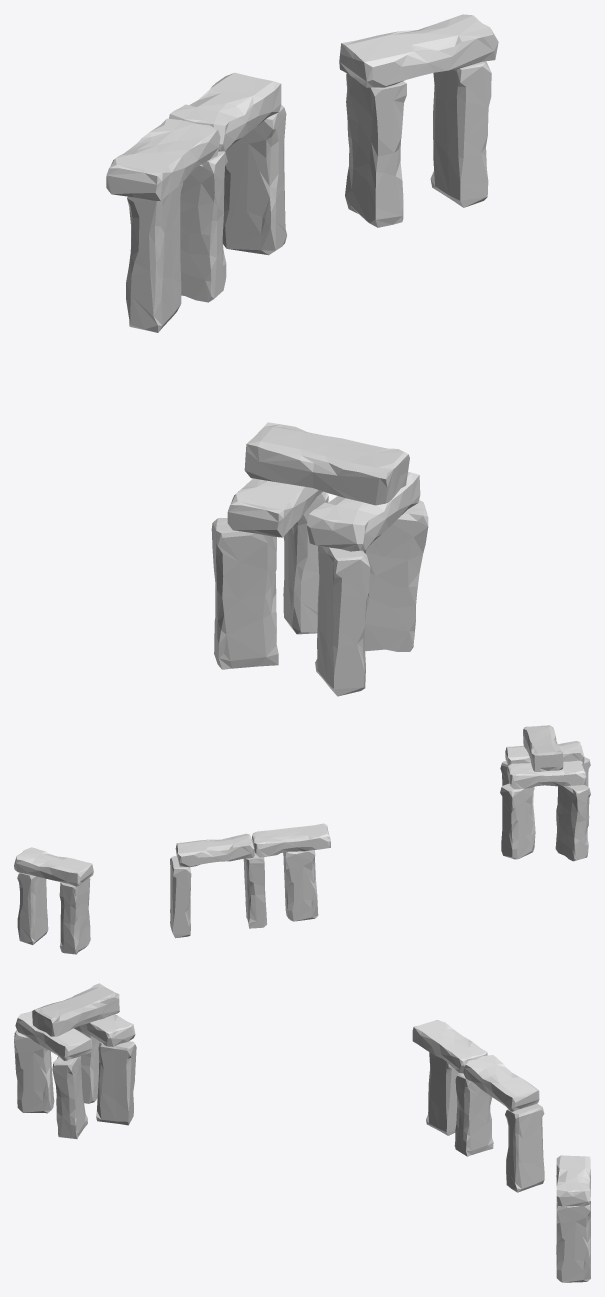
The model's file is PrisonTargets.fbx.
The picture shows the model from 3 angles, top to bottom: view 1: azimuth 30°, elevation 25°; view 2: azimuth 150°, elevation 25°; view 3: azimuth 270°, elevation 25°; orthographic projection. The views are drawn at different scales.
Visible parts, largest first — view 1: Target.014, Target.013, Target.001, Target.005, Target.000, Target.002, Target.009, Target.011, Target.006, Target.007, Target.004, Target.003 (+3 smaller); view 2: Target.013, Target.010, Target.006, Target.001, Target.007, Target.002, Target.000, Target.003, Target.008, Target.005, Target.014, Target.004 (+1 smaller); view 3: Target.005, Target.010, Target.014, Target.000, Target.009, Target.004, Target.003, Target.011, Target.006, Target.007, Target.002, Target.012 (+2 smaller).
Part boxes in pixels (left/top/right/bottom): Target.014: left=244, top=422, right=409, bottom=505; Target.013: left=211, top=518, right=278, bottom=669; Target.001: left=345, top=73, right=406, bottom=227; Target.005: left=222, top=104, right=286, bottom=255; Target.000: left=430, top=61, right=491, bottom=207; Target.002: left=339, top=14, right=498, bottom=87; Target.009: left=315, top=546, right=370, bottom=696; Target.011: left=363, top=500, right=428, bottom=651; Target.006: left=126, top=182, right=183, bottom=332; Target.007: left=106, top=118, right=220, bottom=200; Target.004: left=180, top=151, right=227, bottom=302; Target.003: left=169, top=72, right=281, bottom=151; Target.013: left=555, top=785, right=590, bottom=861; Target.010: left=500, top=783, right=535, bottom=859; Target.006: left=283, top=850, right=318, bottom=921; Target.001: left=59, top=878, right=90, bottom=954; Target.007: left=252, top=823, right=330, bottom=857; Target.002: left=14, top=847, right=93, bottom=886; Target.000: left=17, top=872, right=48, bottom=944; Target.003: left=175, top=833, right=254, bottom=867; Target.008: left=507, top=760, right=586, bottom=789; Target.005: left=170, top=856, right=191, bottom=938; Target.014: left=523, top=725, right=563, bottom=771; Target.004: left=243, top=852, right=266, bottom=928; Target.005: left=505, top=1103, right=544, bottom=1192; Target.010: left=96, top=1041, right=136, bottom=1125; Target.014: left=32, top=983, right=119, bottom=1036; Target.000: left=556, top=1201, right=590, bottom=1282; Target.009: left=14, top=1030, right=54, bottom=1113; Target.004: left=454, top=1073, right=493, bottom=1156; Target.003: left=463, top=1055, right=539, bottom=1111; Target.011: left=52, top=1056, right=87, bottom=1139; Target.006: left=426, top=1052, right=458, bottom=1135; Target.007: left=412, top=1020, right=487, bottom=1073; Target.002: left=556, top=1155, right=590, bottom=1206; Target.012: left=15, top=1010, right=92, bottom=1060.
Bounding box in the file's own units: 26.54 × 8.39 × 33.58.
Materials: 1 (1 with a texture image).
